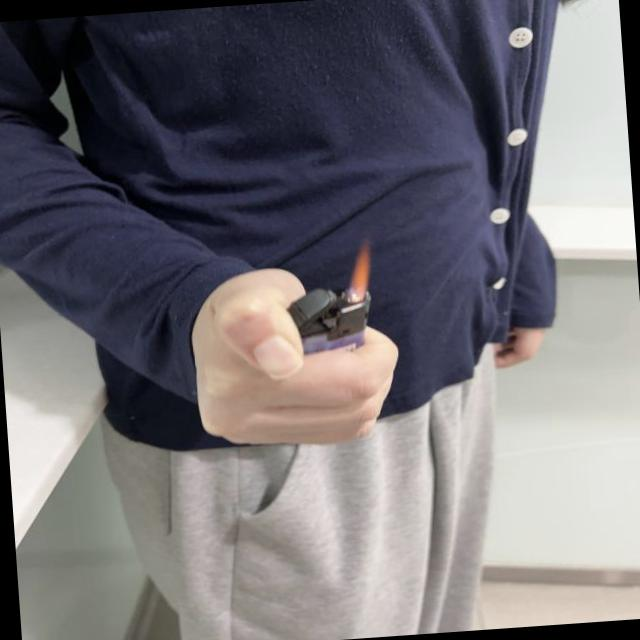fire: (340, 238, 377, 301)
